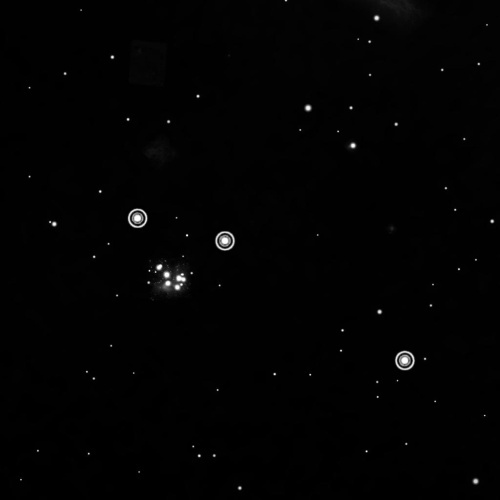vulpecula: (125, 203, 423, 375)
